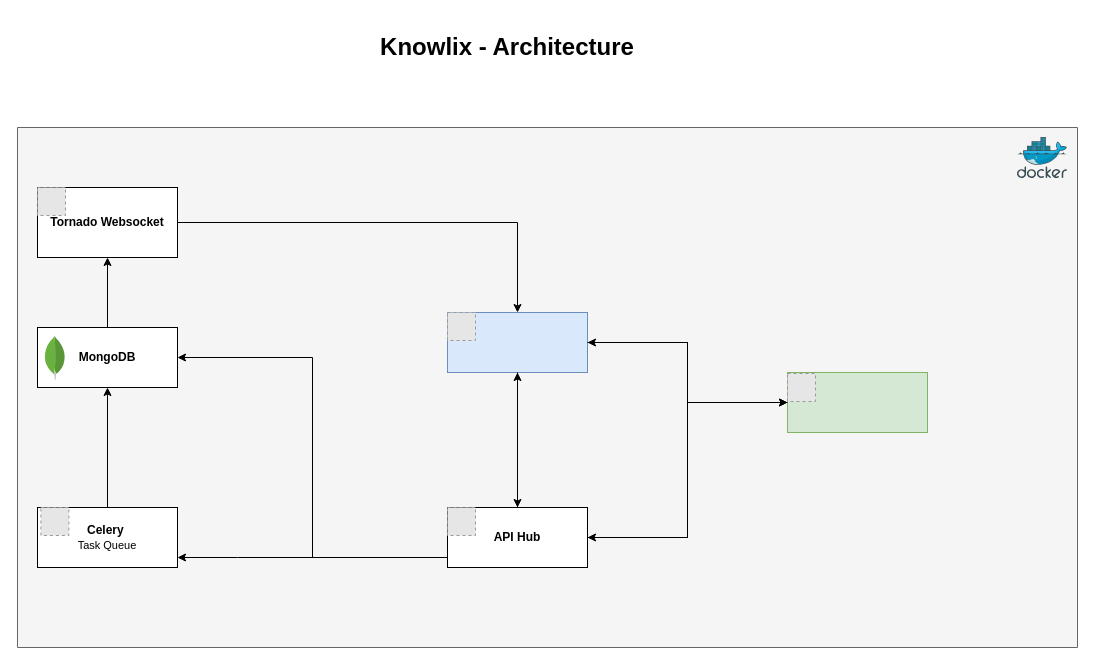
The diagram is 1095 pixels wide and 665 high, and some of its shapes have lost their labels. Grey dashed boxes stand in for pictures. Here are the shapes that lost their labels. From the top down, the box of each, then its label:
(446, 312, 588, 372): Nuxt App
(786, 372, 928, 432): Nginx Webserver
